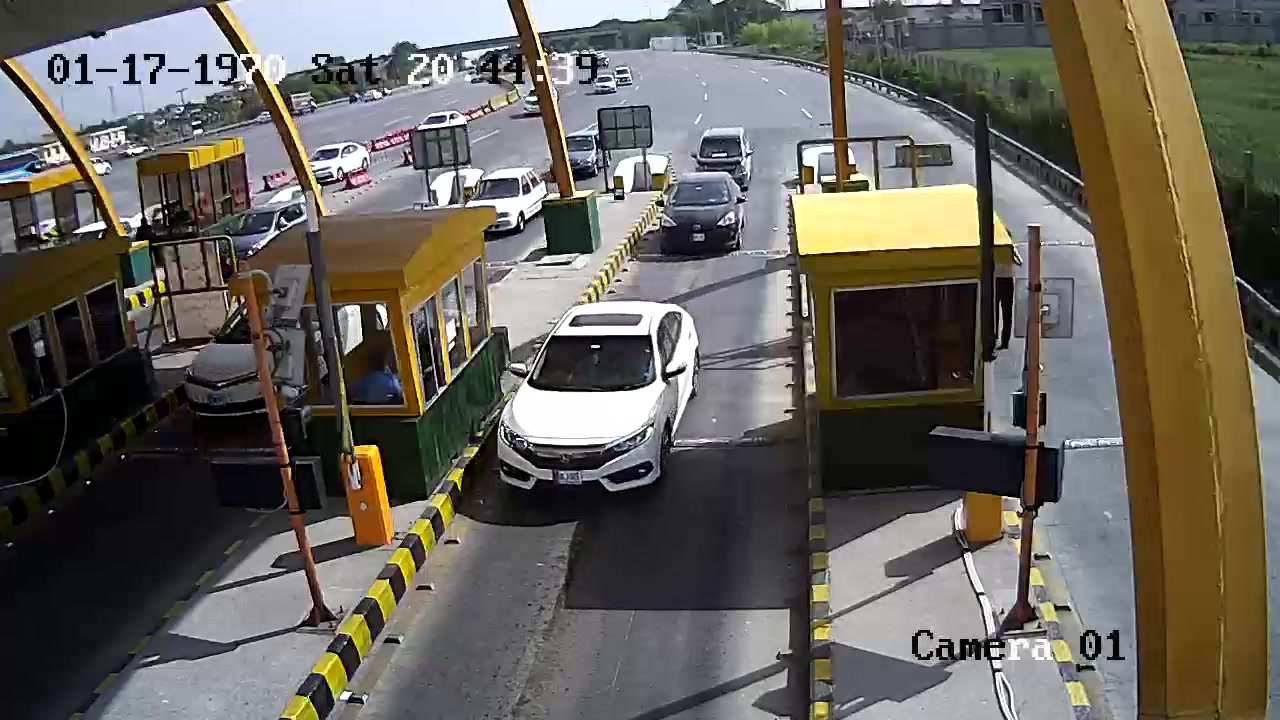F1: (494, 300, 712, 496), (660, 168, 748, 262)
